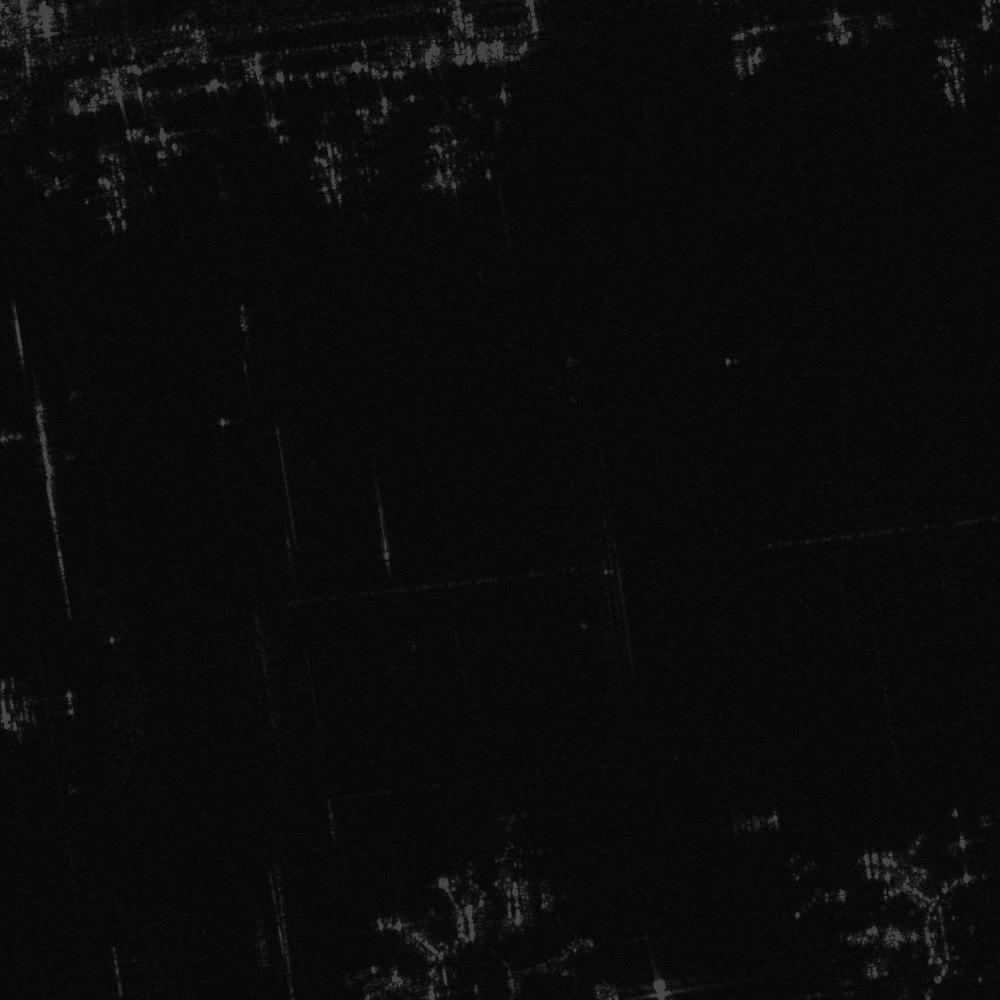A220: (793, 855, 851, 920), (485, 814, 540, 871), (812, 969, 857, 999)
Boeing787: (84, 151, 156, 234), (916, 35, 994, 110), (296, 132, 365, 209), (418, 126, 481, 194)
